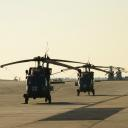helicopter: (1, 58, 59, 103), (56, 59, 107, 98), (106, 66, 116, 82), (116, 68, 127, 81)
